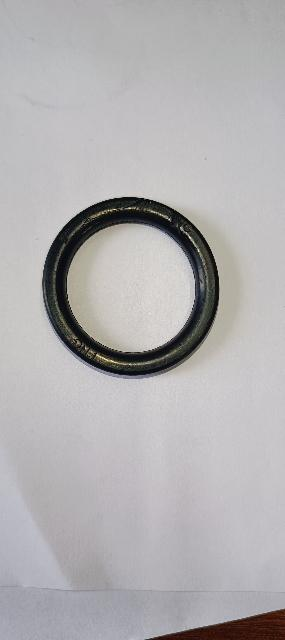scratch: (111, 198, 146, 211), (80, 214, 104, 231), (171, 210, 184, 233)
